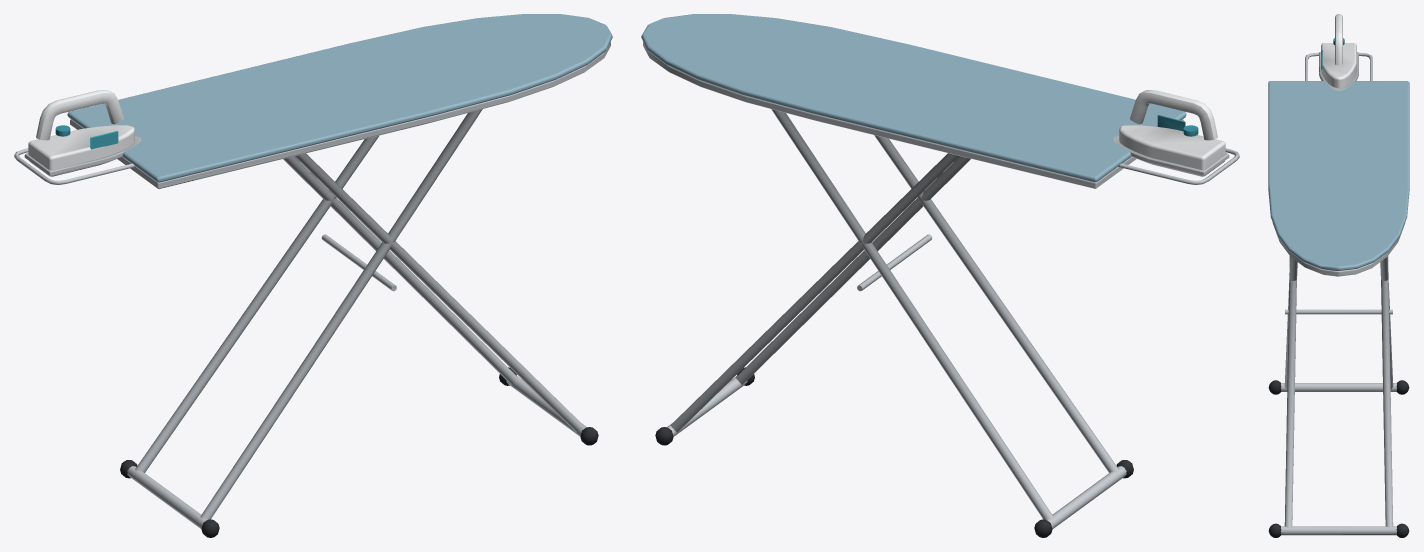
The model's file is ironingBoard.glb.
The picture shows the model from 3 angles, left to right: view 1: azimuth 30°, elevation 25°; view 2: azimuth 150°, elevation 25°; view 3: azimuth 270°, elevation 25°; orthographic projection. The views are drawn at different scales.
Parts seen in each view (by area): view 1: body, iron; view 2: body, iron; view 3: body, iron.
Boxes of the visible parts, x1,y1,x2,y2 form: body: (14, 14, 612, 537); iron: (24, 90, 140, 176); body: (641, 14, 1239, 537); iron: (1113, 90, 1229, 176); body: (1268, 52, 1409, 537); iron: (1319, 14, 1358, 90).
Bounding box in the file's own units: 1.43 × 1.03 × 0.3914.
